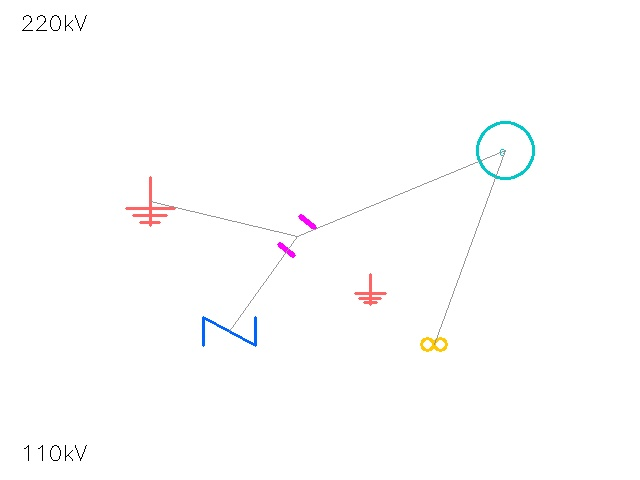capacitor: (268, 207, 326, 265)
circuit_breaker: (200, 302, 258, 360)
generator: (477, 122, 533, 178)
ground: (126, 177, 174, 225), (355, 274, 385, 304)
transformer_2w: (418, 328, 450, 360)
